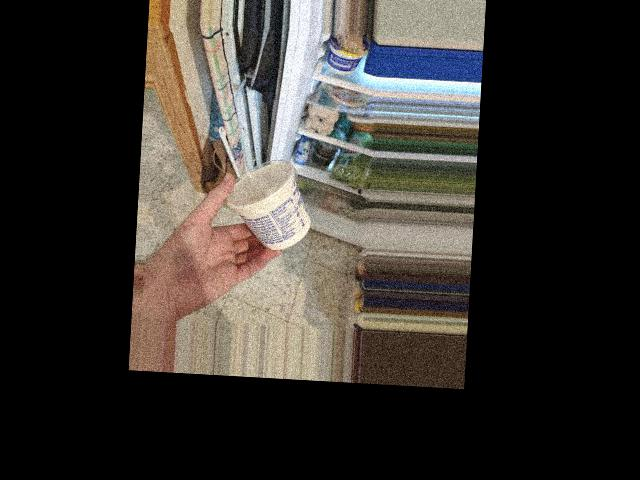cotage: (230, 157, 311, 242)
